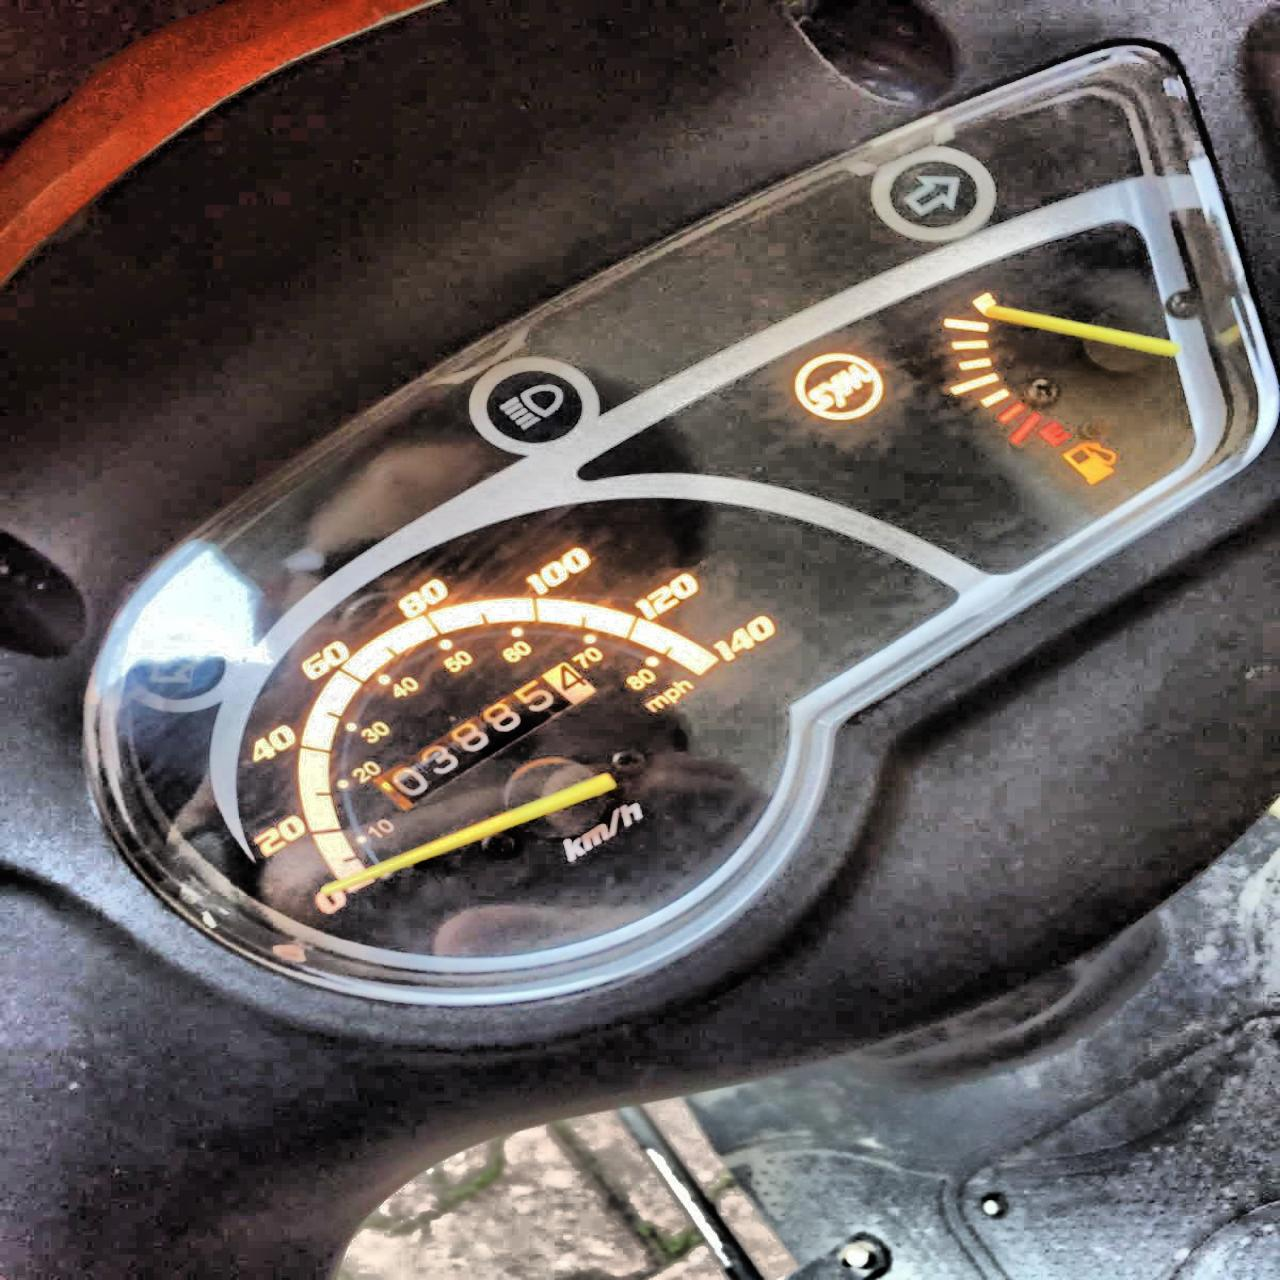0: (390, 765, 428, 796), (361, 760, 381, 776), (400, 675, 418, 692), (372, 720, 389, 736)
3: (421, 744, 458, 775), (359, 727, 380, 743)
4: (560, 663, 586, 690), (392, 682, 406, 699)
5: (512, 679, 553, 712), (443, 656, 461, 673)
7: (571, 652, 588, 669)
8: (449, 721, 489, 753), (482, 702, 520, 731)
odometer: (367, 659, 599, 813)
